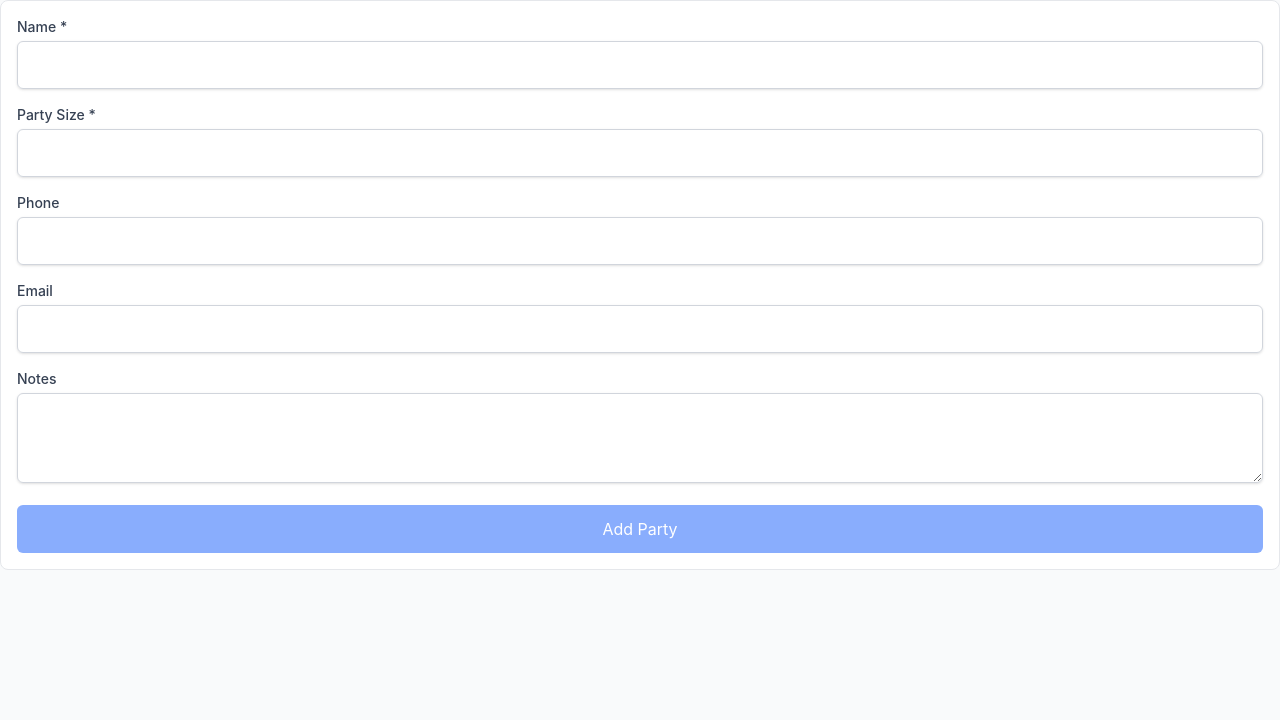
Scenario: AddPartyForm › enables submit button when name and party size are filled
The image size is (1280, 720).
In the field labelled "Name *": coordinates (640, 65) [17,41,1263,89], type "Smith"
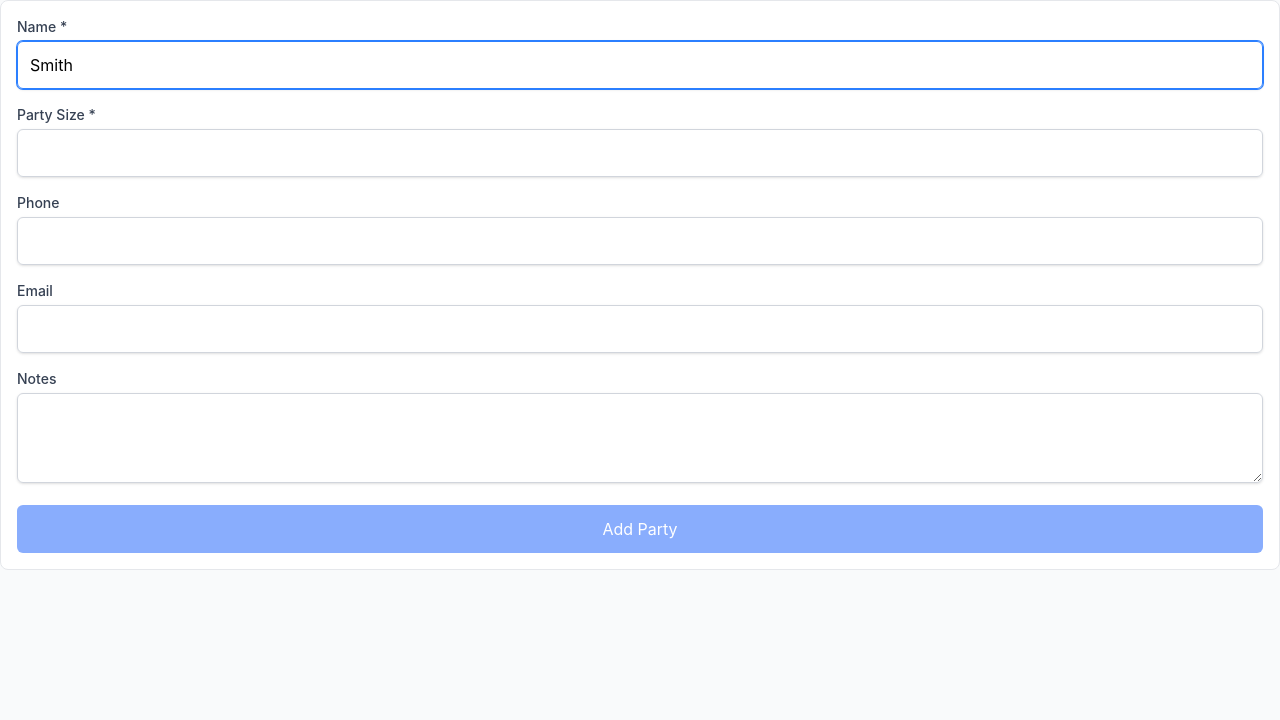
In the number field labelled "Party Size *": coordinates (640, 153) [17,129,1263,177], type "4"
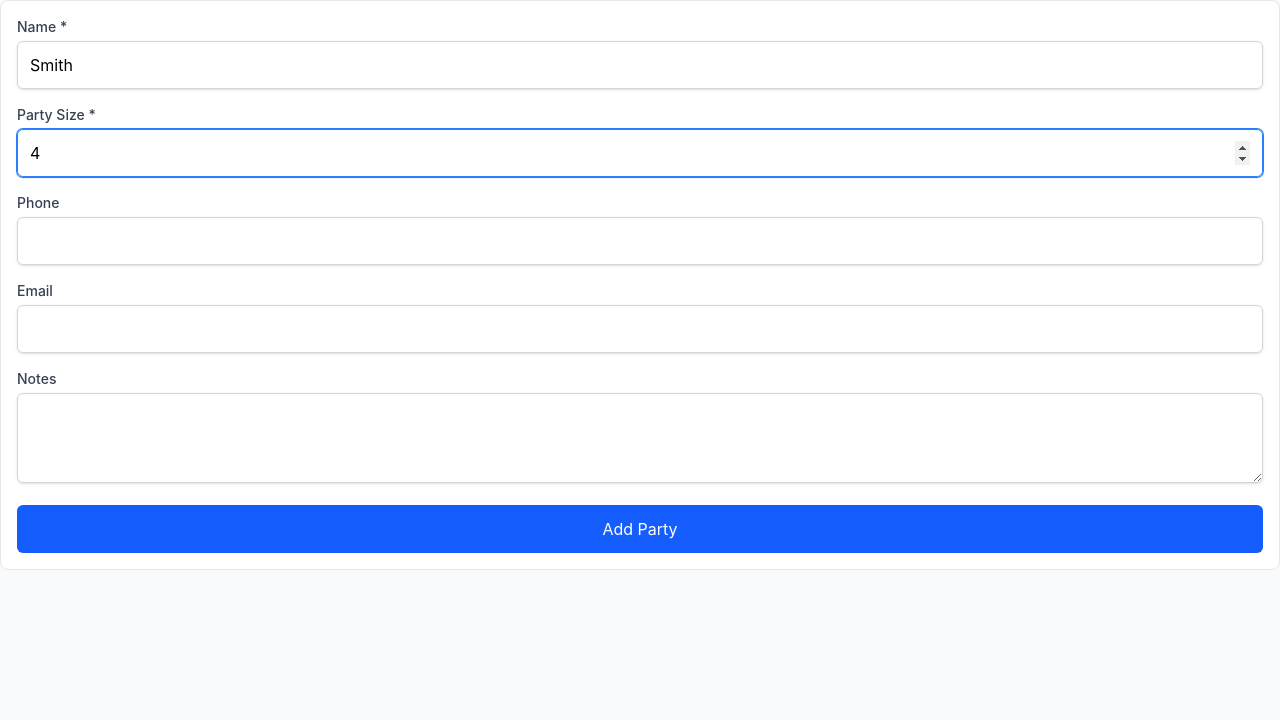
expect the button "Add Party" is enabled: met, box [17,505,1263,553]
